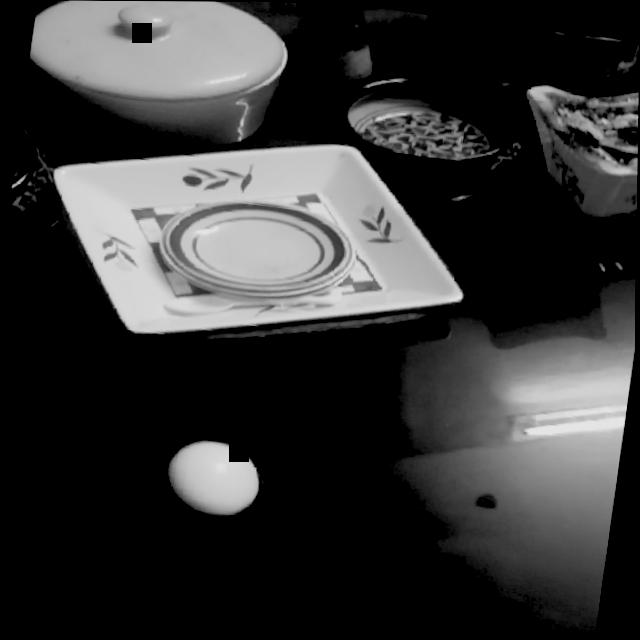eggs: (160, 432, 266, 519)
